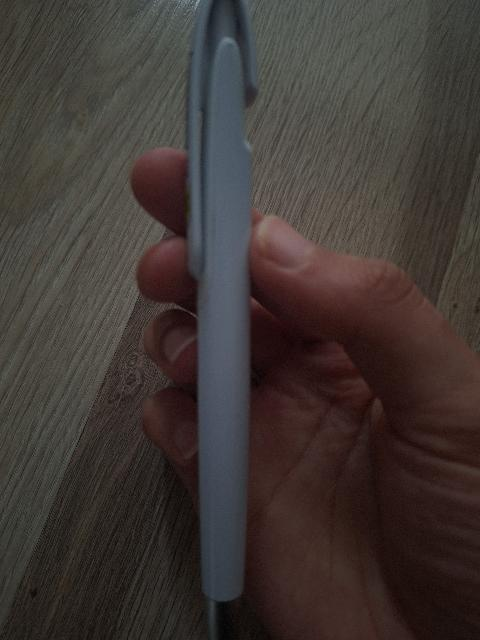writing_tool: (176, 0, 263, 640)
